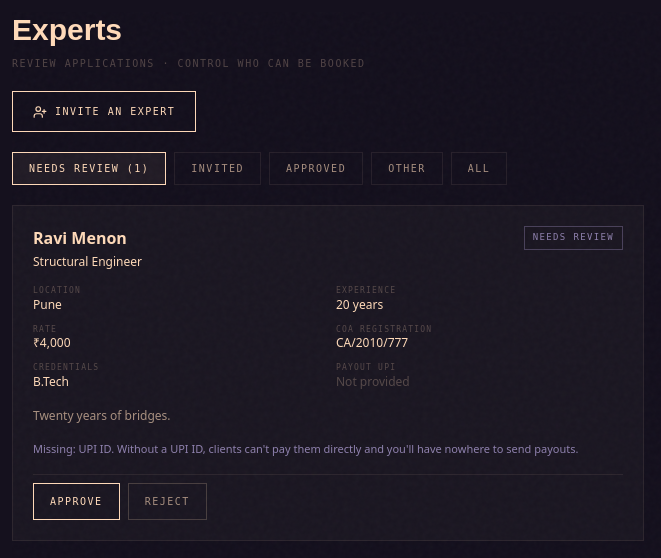
Test: Admin / Experts › warns about a missing UPI ID and offers Suspend on the Approved tab
The width and height of the screenshot is (661, 558).
expect the text "Missing: UPI ID" shows "nowhere to send payouts": met, box [117, 442, 578, 456]
Click the tab "APPROVED". click: coordinates (316, 168)
box: [269, 152, 363, 185]
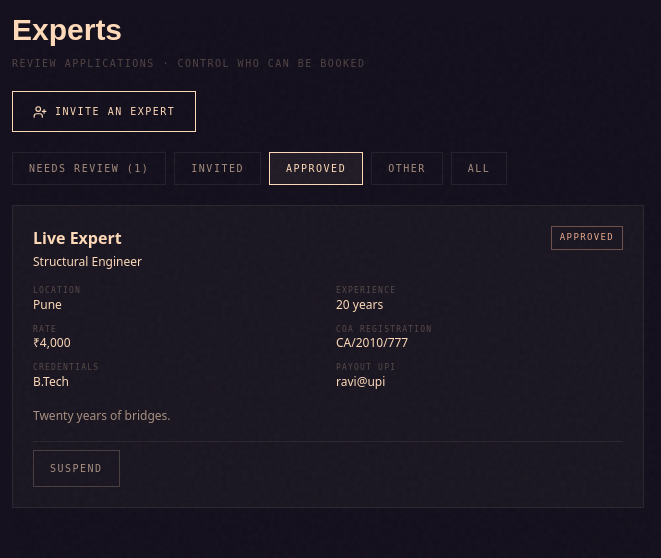
expect the button "SUSPEND" is shown: met, box [33, 450, 120, 488]
